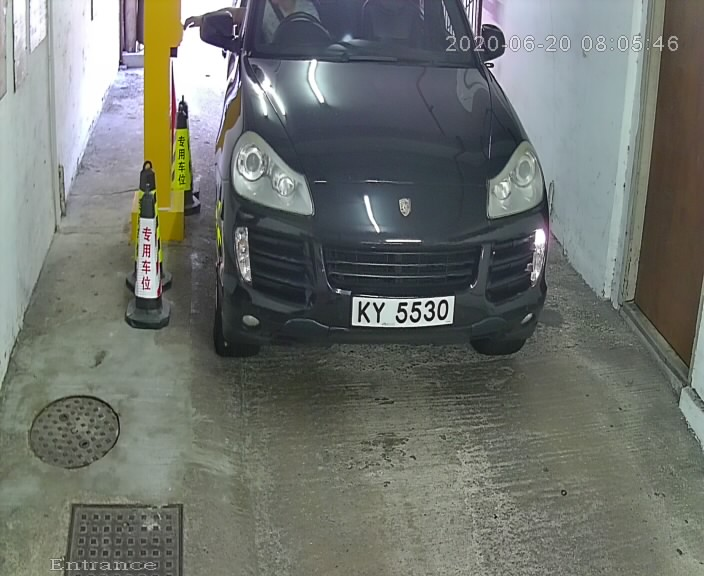privatecar: (210, 3, 555, 374)
